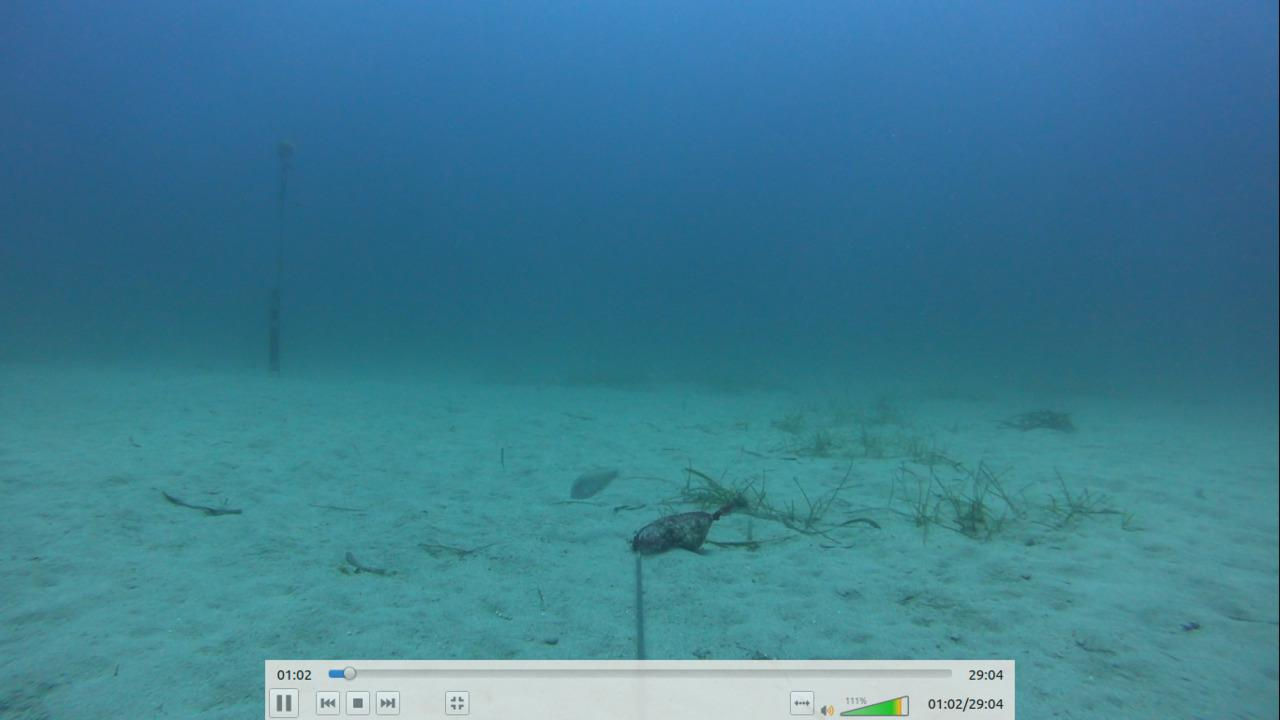raor: (560, 456, 626, 502)
